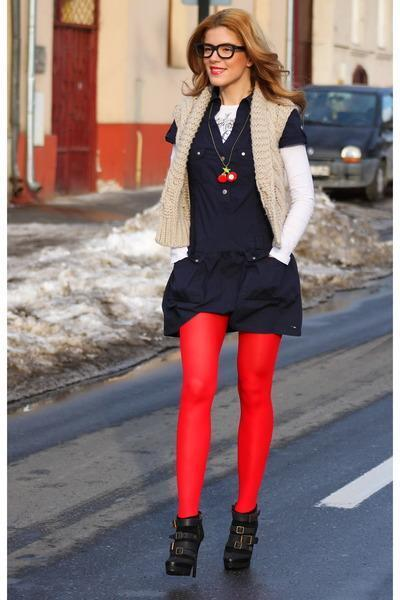dress: (156, 101, 316, 338)
jacket: (147, 84, 299, 248)
shirt: (220, 122, 328, 264)
shoe: (165, 503, 259, 583)
